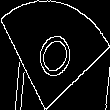O_SW: (30, 22, 80, 88)
